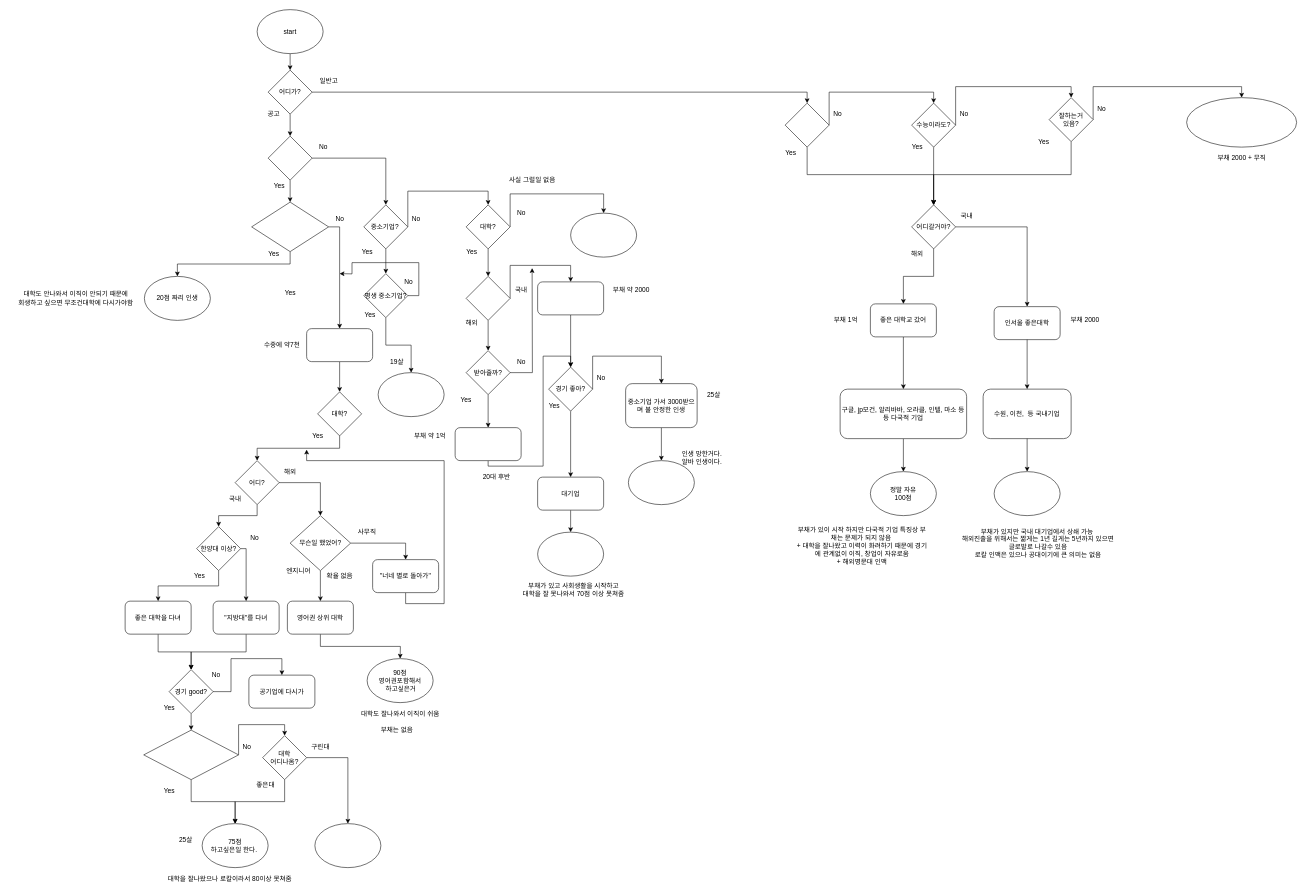
Some shapes in this 1306 by 894 pixel diagram are drawn without their labels. Here are the shapes that lost their labels. From the top down, the centre of each, then its label:
(x=807, y=125): 내신좋음?
(x=1241, y=122): 0점 어디 평야에 지방대 혹은 인서울 안좋은 학과
(x=290, y=158): 공기업에 감?
(x=290, y=227): 평생 공기업?
(x=603, y=235): 0점짜리 인생
(x=488, y=298): 국내 or 해외
(x=570, y=298): 개 구린 어디 평야에 있는 대학
(x=339, y=345): 3년을 기다렸어
(x=411, y=394): 10점짜리 인생
(x=488, y=444): 어디 이름도 없는 대학교 어학연수
(x=661, y=482): 0점 짜리 인생
(x=1027, y=493): 로칼 자유 90점
(x=570, y=554): 45점 짜리
(x=191, y=755): 경기가 극도로 좋습니까?
(x=347, y=845): 15점 개처럼 일한다.
